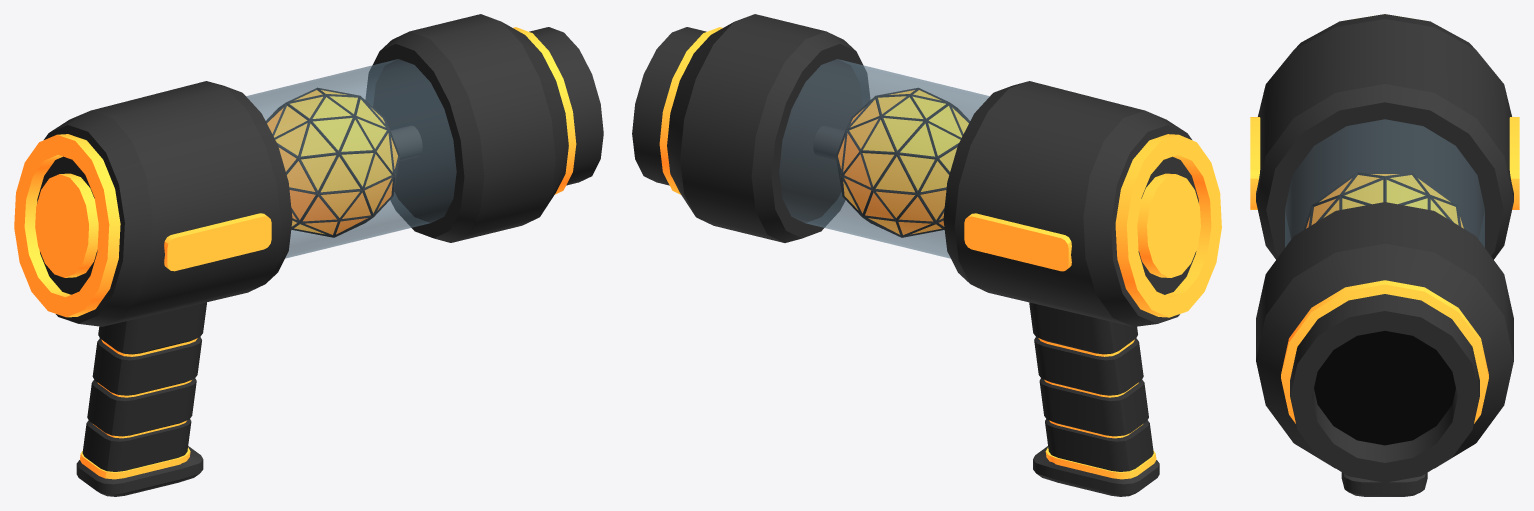
3 renders of one model, left to right at view 1: azimuth 30°, elevation 25°; view 2: azimuth 150°, elevation 25°; view 3: azimuth 270°, elevation 25°, orthographic. The views are drawn at different scales.
Visible parts, largest first — view 1: BodyFront, BodyBack, BodyGlass, GripBody, Icosphere, BackOuterLightRing, BackInnerLight, BackLightPlate, GripBottom, BodyFrontLightRing, GripLightRing, IcosphereCylinder (+1 smaller); view 2: BodyFront, BodyBack, BodyGlass, GripBody, Icosphere, BackOuterLightRing, BackInnerLight, BackLightPlate, GripBottom, BodyFrontLightRing, GripLightRing, IcosphereCylinder (+1 smaller); view 3: BodyBack, BodyFront, BodyGlass, BodyBlackness, Icosphere, BodyFrontLightRing, BackLightPlate, GripBottom.
Boxes of the visible parts, box(x1,y1,x2,y2) form: BodyFront: box(365, 14, 603, 242); BodyBack: box(37, 81, 292, 326); BodyGlass: box(246, 59, 456, 258); GripBody: box(82, 302, 206, 471); Icosphere: box(266, 87, 399, 237); BackOuterLightRing: box(14, 134, 120, 317); BackInnerLight: box(35, 173, 98, 277); BackLightPlate: box(164, 213, 271, 271); GripBottom: box(76, 446, 203, 496); BodyFrontLightRing: box(513, 27, 576, 194); GripLightRing: box(80, 447, 190, 479); IcosphereCylinder: box(391, 125, 422, 160); BodyFront: box(632, 14, 870, 242); BodyBack: box(943, 81, 1198, 326); BodyGlass: box(779, 59, 989, 258); GripBody: box(1029, 302, 1153, 471); Icosphere: box(836, 88, 969, 237); BackOuterLightRing: box(1115, 134, 1221, 317); BackInnerLight: box(1137, 173, 1200, 277); BackLightPlate: box(964, 213, 1071, 271); GripBottom: box(1033, 446, 1159, 496); BodyFrontLightRing: box(659, 27, 722, 194); GripLightRing: box(1045, 447, 1156, 479); IcosphereCylinder: box(813, 125, 844, 160); BodyBack: box(1256, 14, 1513, 259); BodyFront: box(1256, 202, 1513, 482); BodyGlass: box(1285, 119, 1484, 247); BodyBlackness: box(1314, 331, 1455, 445); Icosphere: box(1304, 172, 1465, 229); BodyFrontLightRing: box(1281, 280, 1488, 423); BackLightPlate: box(1250, 117, 1519, 209); GripBottom: box(1341, 472, 1427, 496).
Size of the model in its own units: 7.45 by 5.05 by 2.83.
